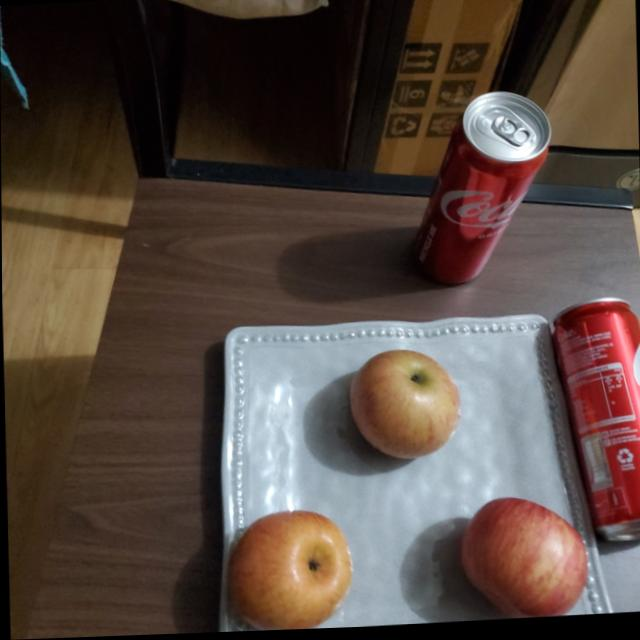apple: (457, 494, 592, 623), (223, 509, 352, 634), (346, 352, 459, 466)
coke: (409, 92, 551, 285), (550, 294, 640, 551)
